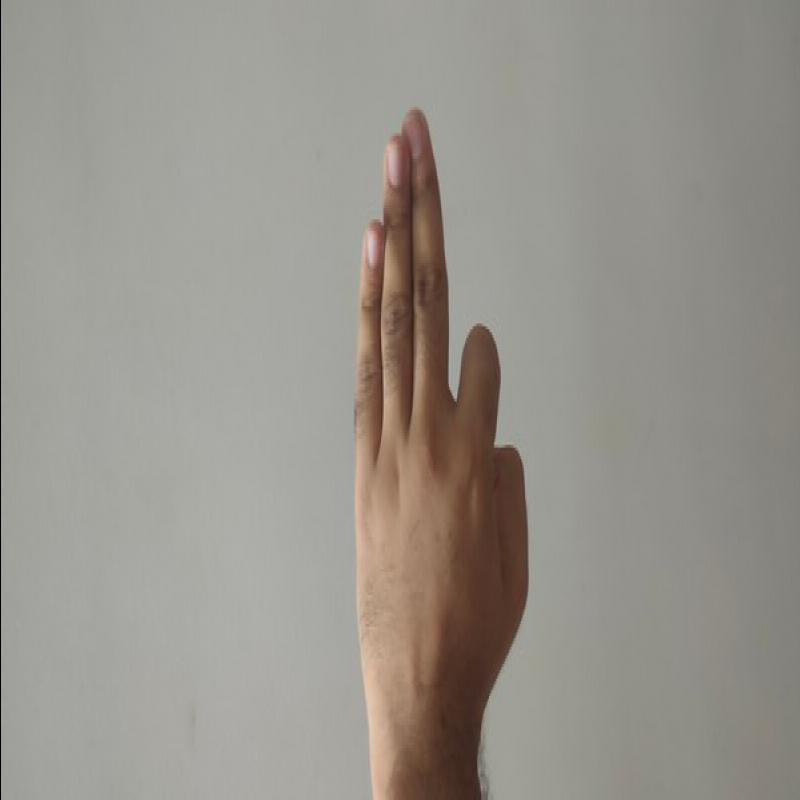Mudraakhyam: (304, 98, 554, 780)
